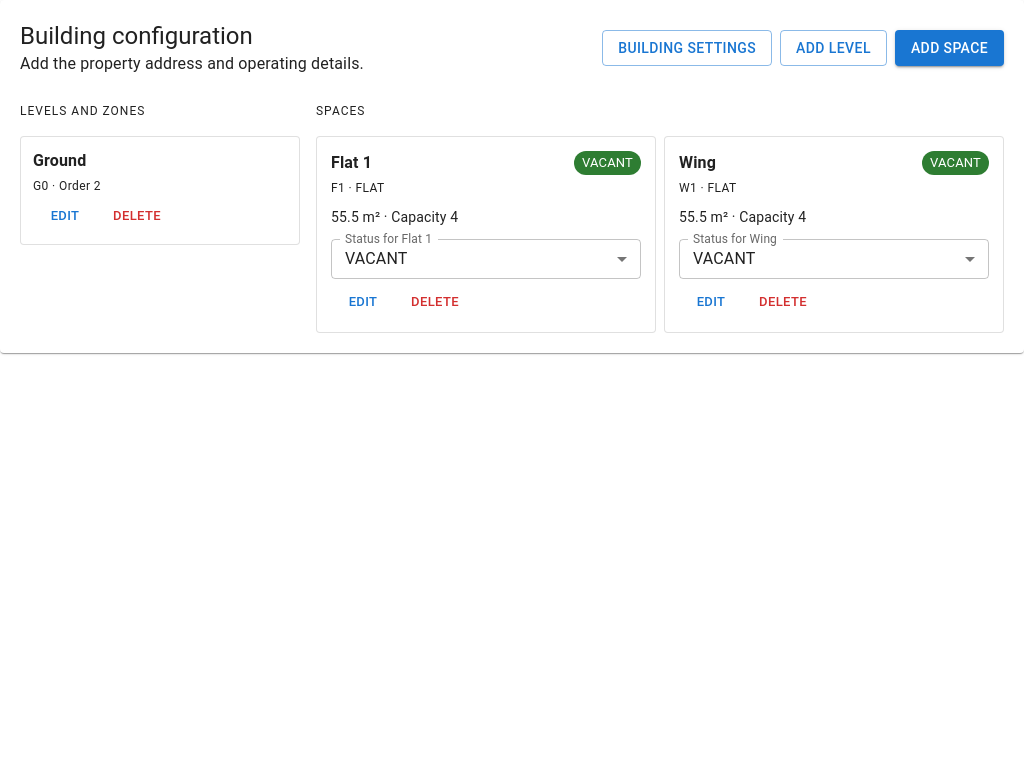
validates a level edit before saving it
Click the button with aria-label "Edit level Ground" at (65, 216), box [33, 201, 97, 232]
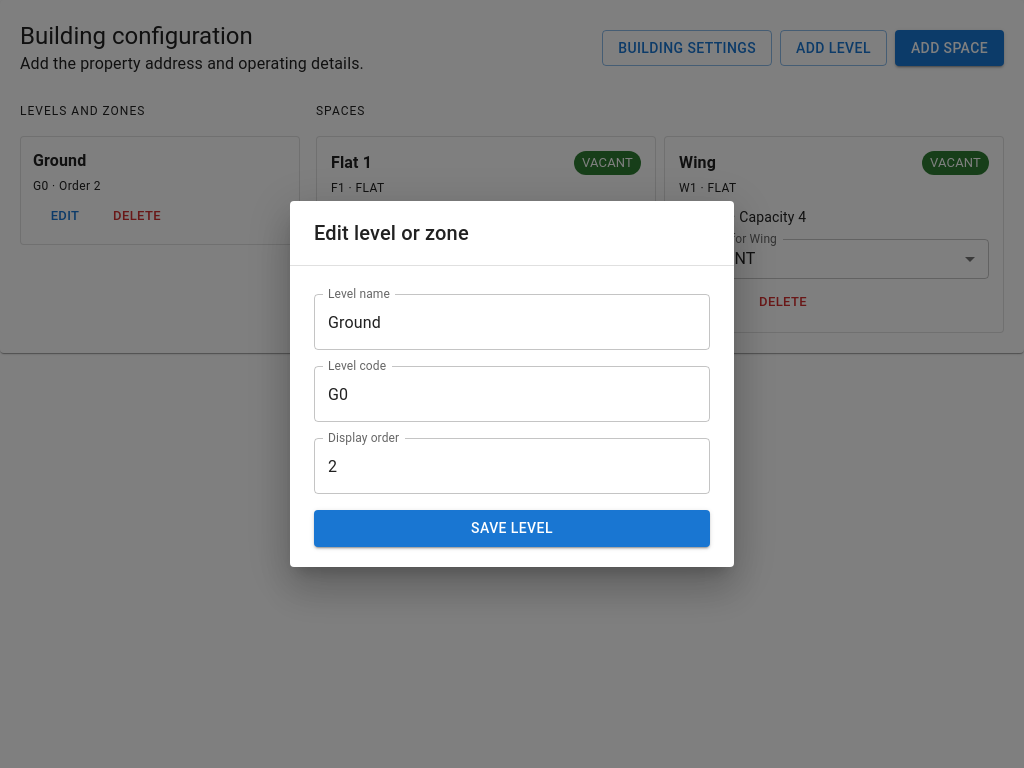
Clear the field labelled "Level code" at (512, 394), box [314, 366, 710, 422]
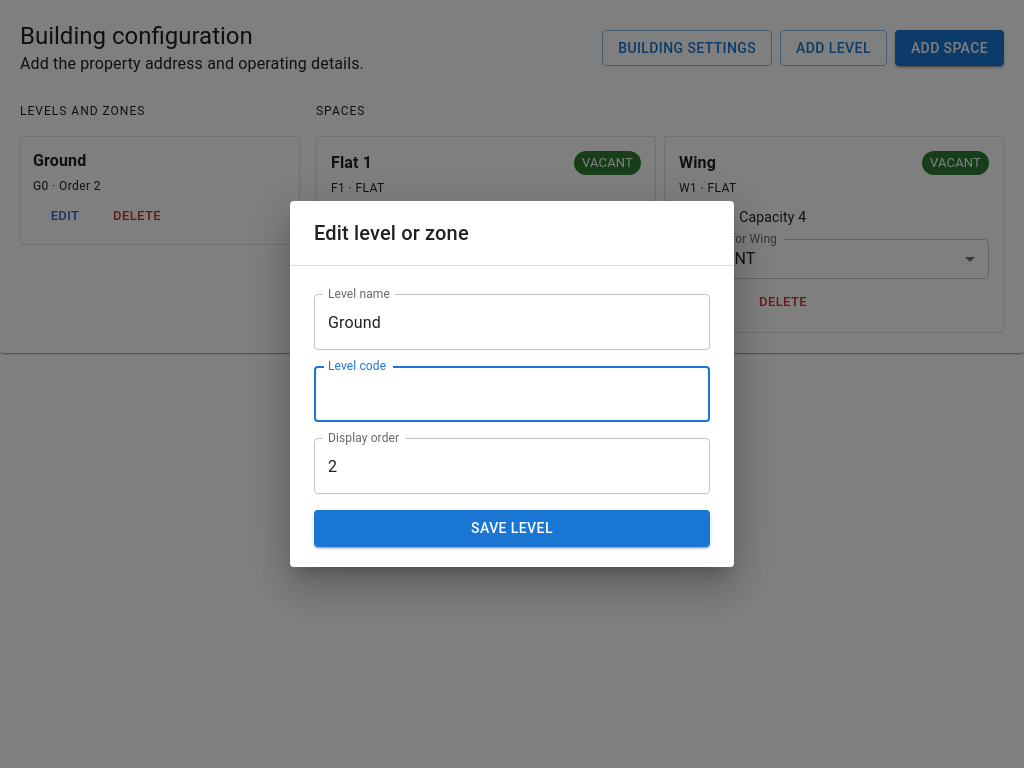
Click the button "Save level" at (512, 529), box [314, 510, 710, 547]
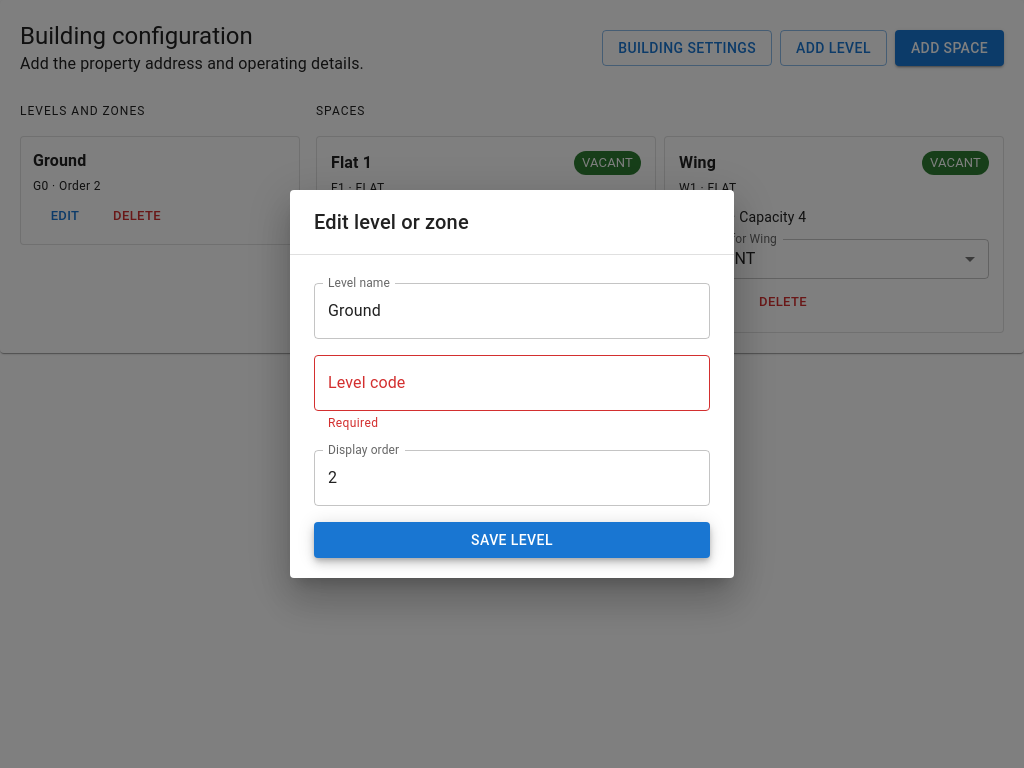
Result: the text "Required" is shown at [328, 416, 378, 430]
